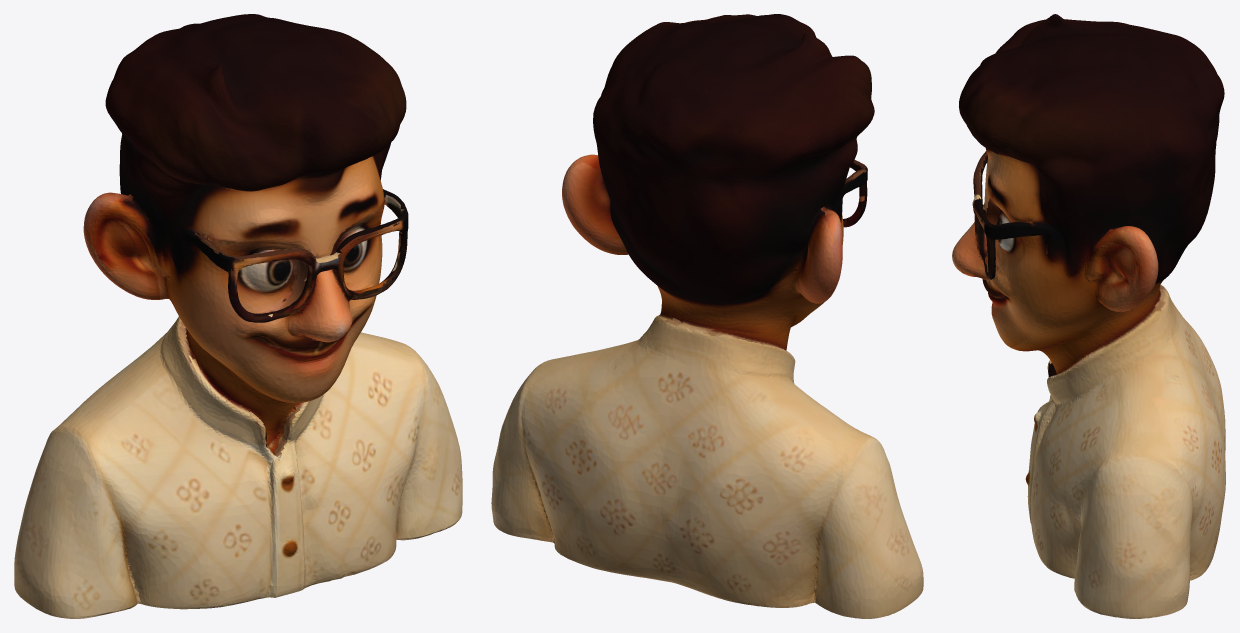
The model's file is 3D SELF MODEL1.glb.
The picture shows the model from 3 angles, left to right: view 1: azimuth 30°, elevation 25°; view 2: azimuth 150°, elevation 25°; view 3: azimuth 270°, elevation 25°; orthographic projection. The views are drawn at different scales.
Parts seen in each view (by area): view 1: tmpjz4xi9aa.ply; view 2: tmpjz4xi9aa.ply; view 3: tmpjz4xi9aa.ply.
Part boxes in pixels (<box>): tmpjz4xi9aa.ply: <box>14,14,462,618</box>; tmpjz4xi9aa.ply: <box>491,14,923,618</box>; tmpjz4xi9aa.ply: <box>952,14,1225,618</box>.
Size of the model in its own units: 1.66 by 1.98 by 1.02.
Materials: 1 (1 with a texture image).
